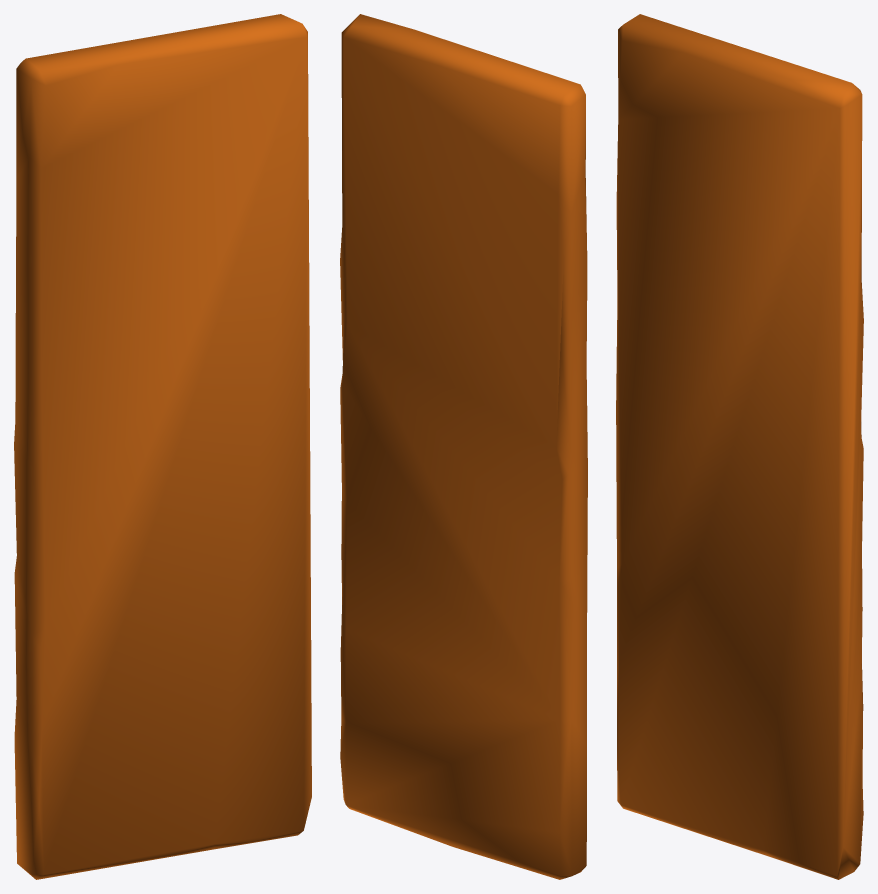
Rendered from TombstonesCoffinWood.008.fbx.
The picture shows the model from 3 angles, left to right: view 1: azimuth 30°, elevation 25°; view 2: azimuth 150°, elevation 25°; view 3: azimuth 330°, elevation 25°; orthographic projection. The views are drawn at different scales.
Parts seen in each view (by area): view 1: TombstonesCoffinWood.008; view 2: TombstonesCoffinWood.008; view 3: TombstonesCoffinWood.008.
Part boxes in pixels (box(x1,y1,x2,y2)): TombstonesCoffinWood.008: box(14, 14, 311, 879); TombstonesCoffinWood.008: box(340, 14, 587, 879); TombstonesCoffinWood.008: box(616, 14, 863, 879).
Bounding box in the file's own units: 36.54 × 110 × 10.55.
